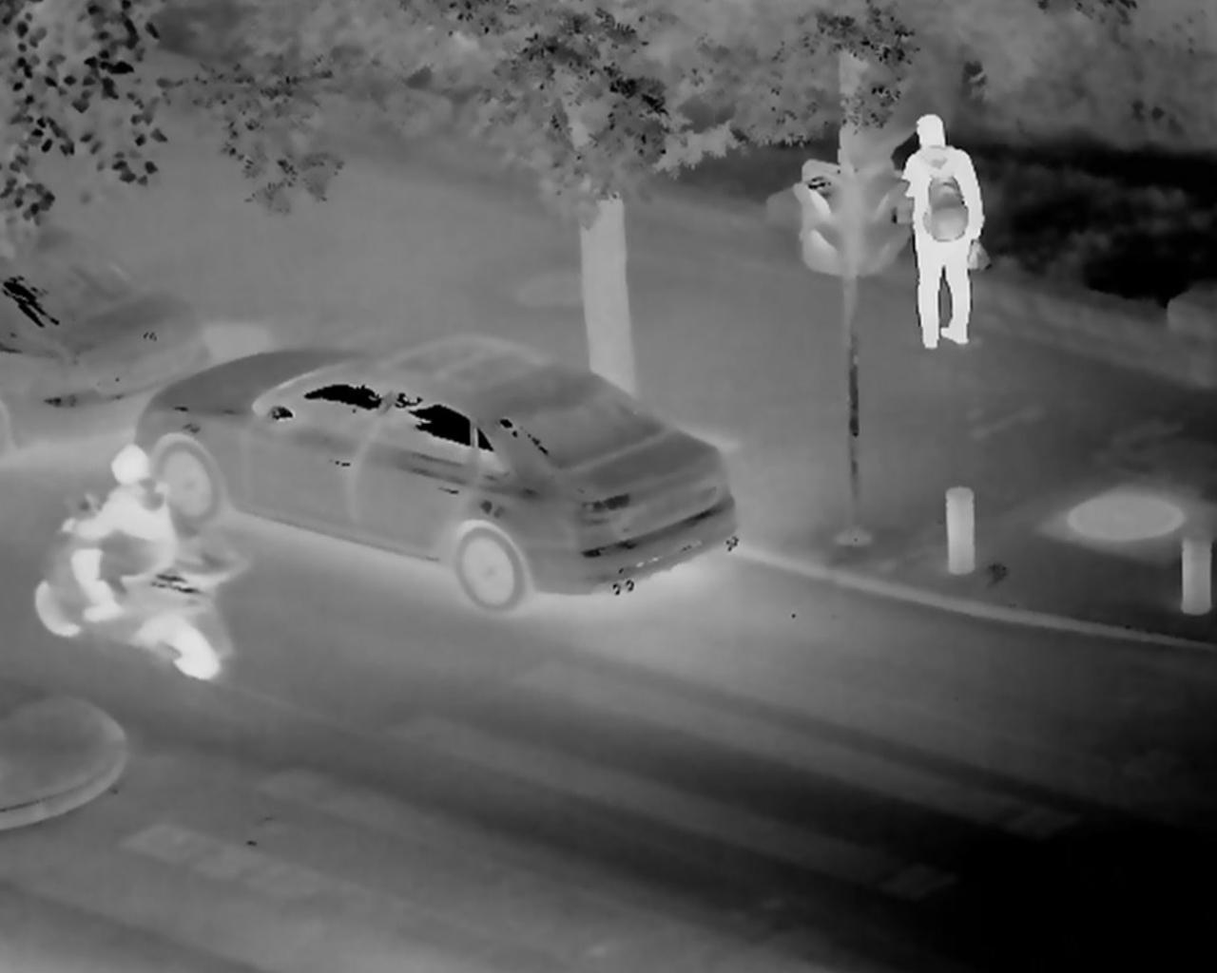person: (897, 113, 997, 354), (63, 445, 184, 636)
